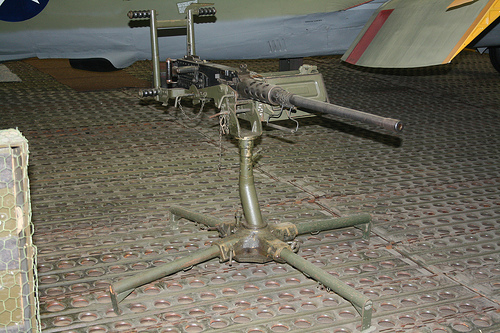rifle: (127, 9, 438, 175)
